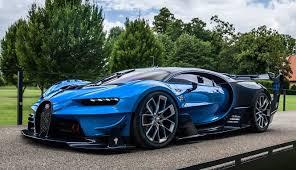car: (18, 63, 286, 154)
